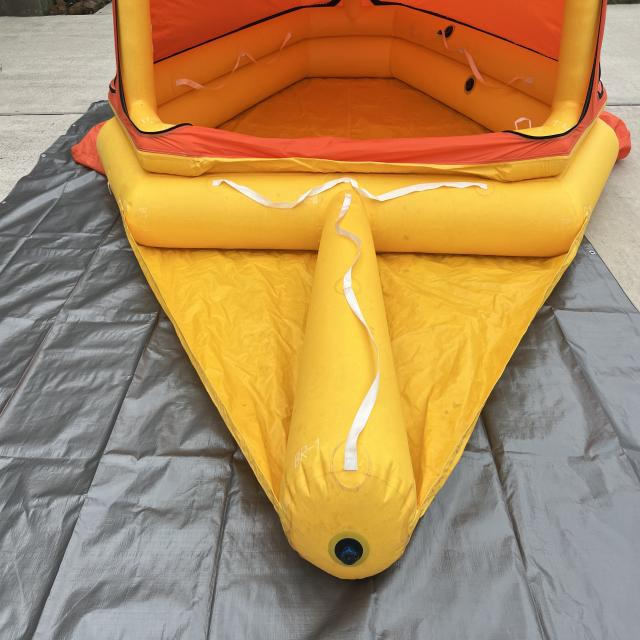Multi-person_life_raft: (70, 2, 632, 580)
